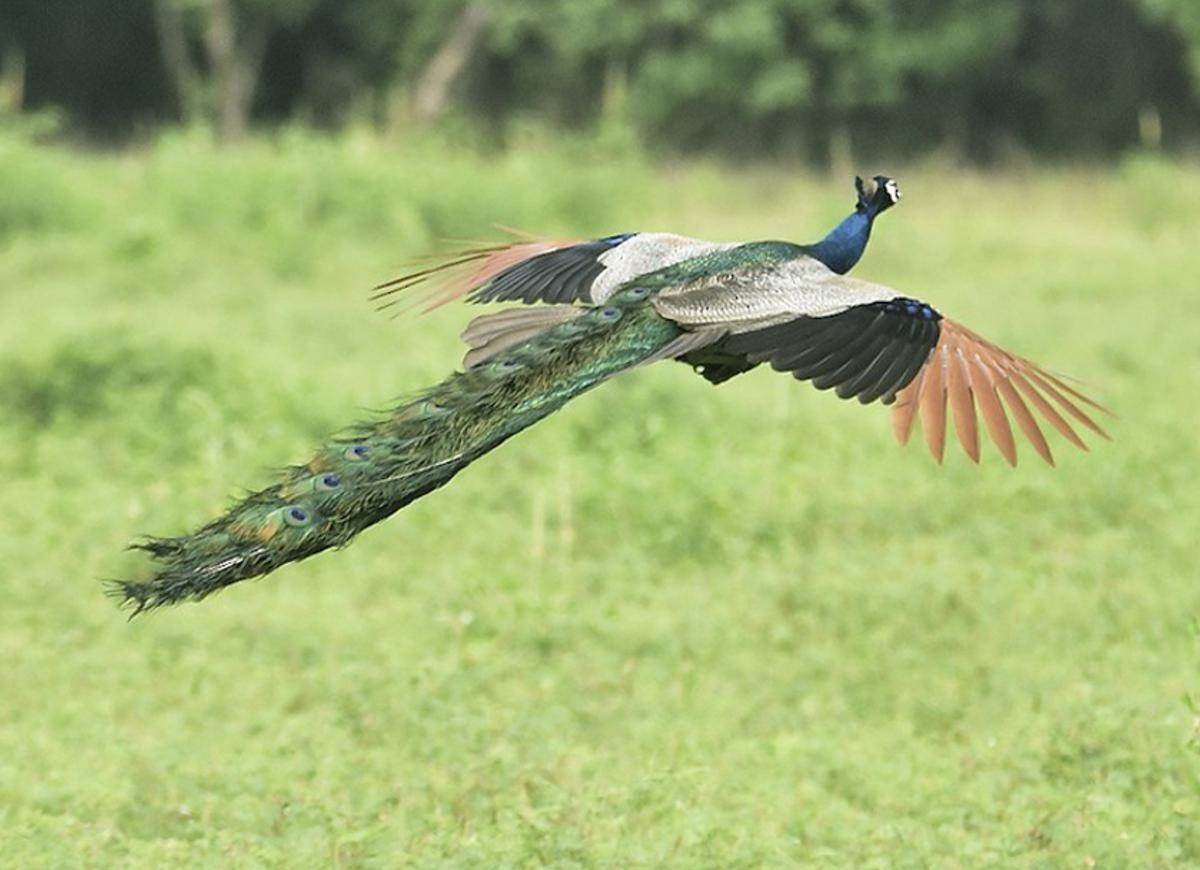peacock: (128, 115, 1078, 716)
